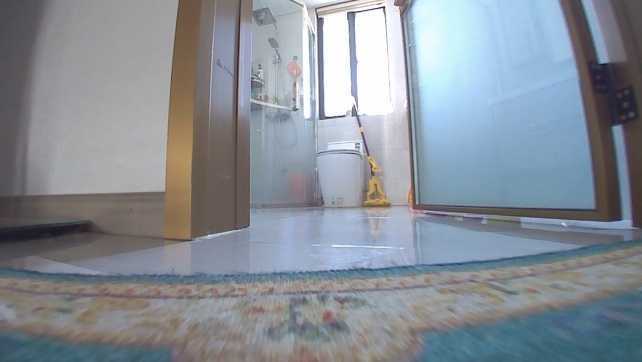blanket: (0, 233, 641, 360)
door_anno: (391, 0, 641, 227)
toilet: (309, 137, 371, 208)
